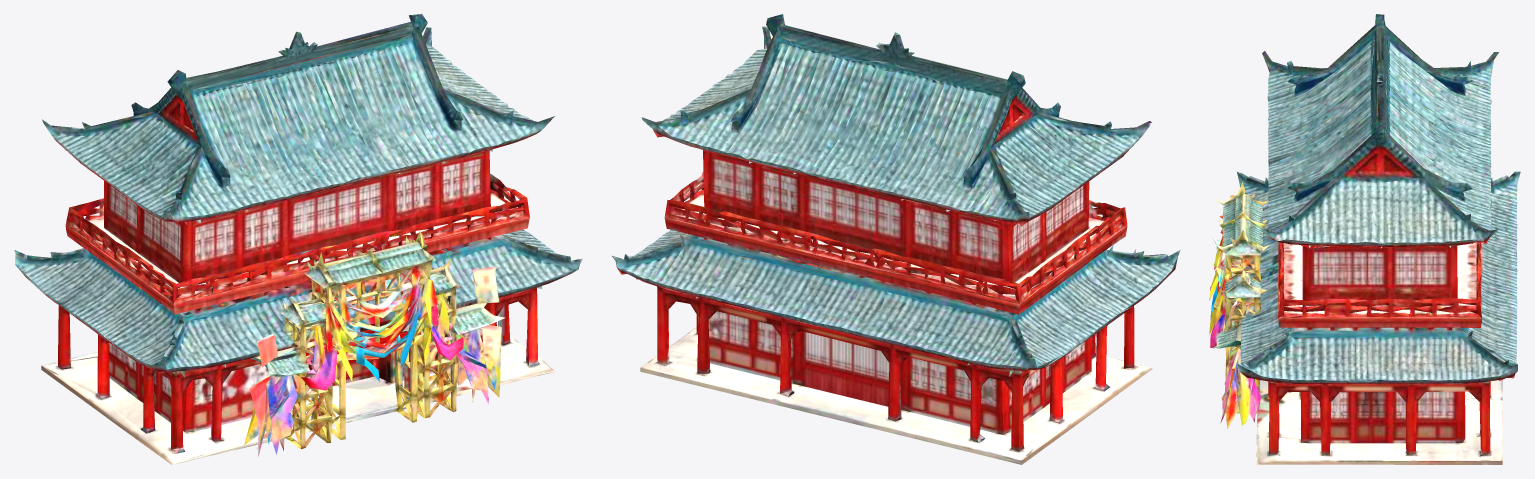
Rendered from qm_tavern_lo.glb.
3 renders of one model, left to right at view 1: azimuth 30°, elevation 25°; view 2: azimuth 150°, elevation 25°; view 3: azimuth 270°, elevation 25°, orthographic. The views are drawn at different scales.
Visible parts, largest first — view 1: qm_tavern; view 2: qm_tavern; view 3: qm_tavern.
Boxes of the visible parts, bbox=[...] form: qm_tavern: bbox=[14, 14, 582, 464]; qm_tavern: bbox=[612, 14, 1180, 464]; qm_tavern: bbox=[1209, 14, 1520, 464].
Size of the model in its own units: 14.32 by 10.94 by 9.68.
Materials: 1 (1 with a texture image).
